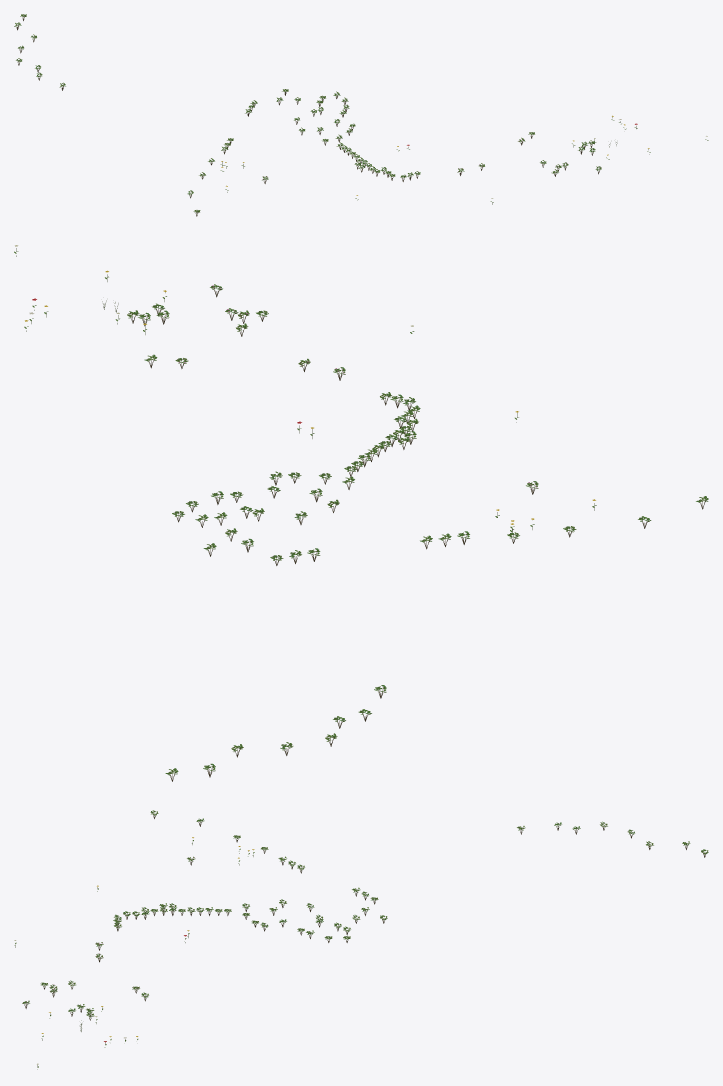
3 renders of one model, top to bottom at view 1: azimuth 30°, elevation 25°; view 2: azimuth 150°, elevation 25°; view 3: azimuth 270°, elevation 25°, orthographic. The views are drawn at different scales.
Visible parts, largest first — view 1: GROUND_FLORA_s_-7_-4; view 2: GROUND_FLORA_s_-7_-4; view 3: GROUND_FLORA_s_-7_-4.
Boxes of the visible parts, bbox=[...] form: GROUND_FLORA_s_-7_-4: bbox=[14, 14, 708, 216]; GROUND_FLORA_s_-7_-4: bbox=[14, 245, 708, 781]; GROUND_FLORA_s_-7_-4: bbox=[14, 810, 708, 1069].
Bounding box in the file's own units: 65.86 × 0.9729 × 75.78.
